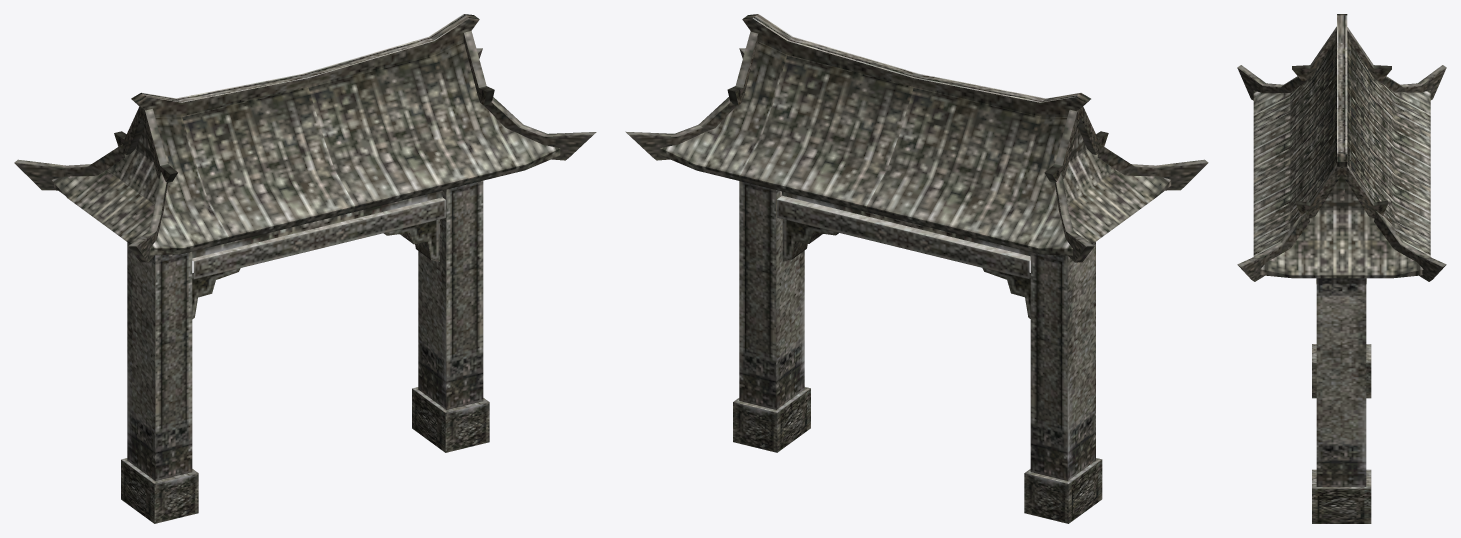
File: general_obj_stonedoor.glb
3 renders of one model, left to right at view 1: azimuth 30°, elevation 25°; view 2: azimuth 150°, elevation 25°; view 3: azimuth 270°, elevation 25°, orthographic. The views are drawn at different scales.
Visible parts, largest first — view 1: Object05; view 2: Object05; view 3: Object05.
Part boxes in pixels (left/top/right/bottom): Object05: left=14, top=14, right=596, bottom=523; Object05: left=625, top=14, right=1208, bottom=523; Object05: left=1237, top=14, right=1446, bottom=523.
Bounding box in the file's own units: 11.16 × 9.44 × 4.89.
Materials: 1 (1 with a texture image).
